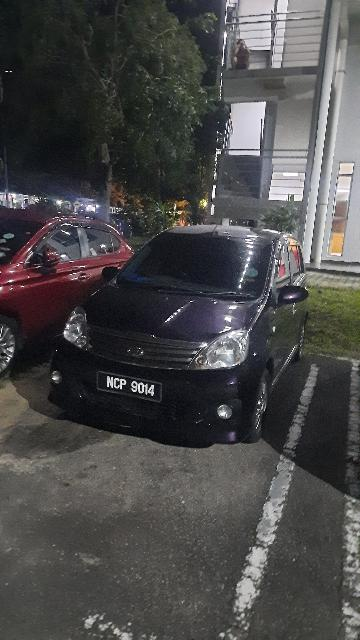License_Plate: (98, 370, 166, 408)
car: (45, 222, 312, 444)
